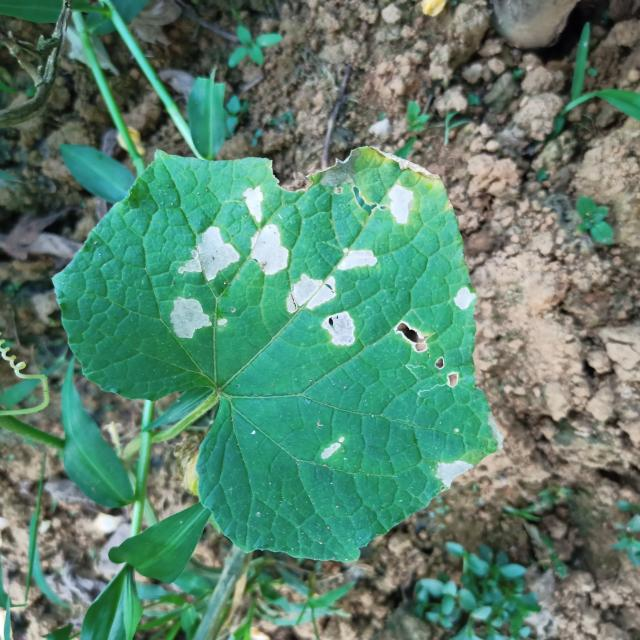disease_cucumber: (286, 274, 358, 347), (395, 323, 462, 393), (240, 188, 292, 276), (178, 224, 242, 286), (165, 296, 244, 340), (382, 181, 417, 225), (334, 245, 381, 274), (436, 458, 477, 488), (322, 435, 354, 465), (455, 286, 475, 313)
